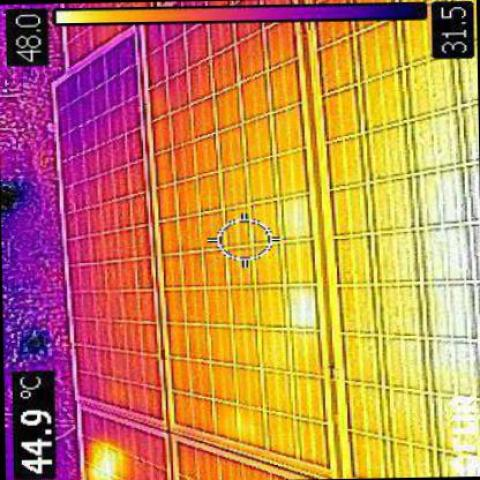fault: (89, 440, 120, 476), (287, 290, 312, 326)
